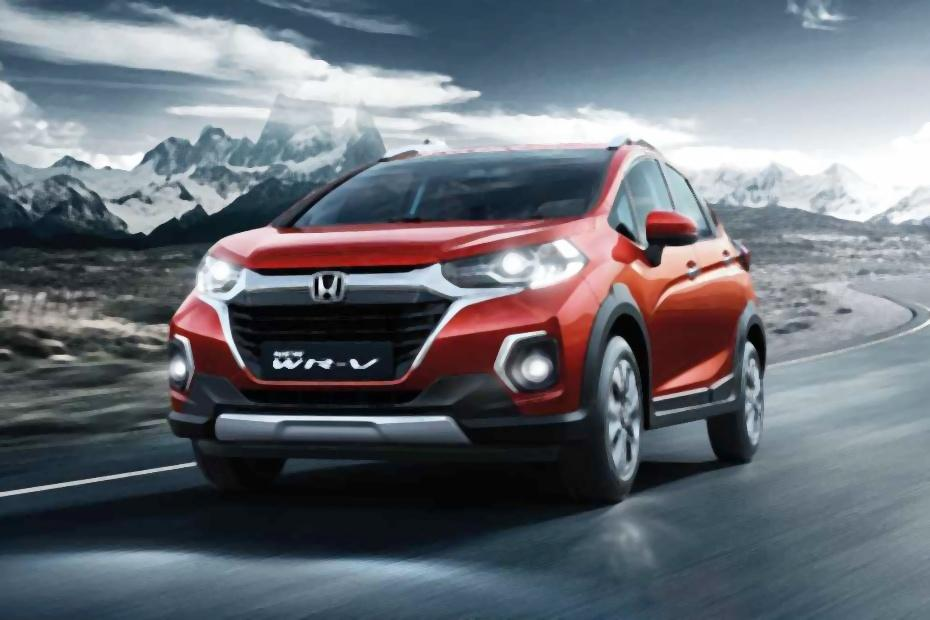Car hood: (209, 213, 606, 282)
Fender - -F-L-: (565, 199, 661, 383)
Front bumper: (169, 286, 609, 447)
Headlight - -L-: (439, 236, 594, 288)
Headlight - -R-: (181, 244, 244, 299)
Passenger-s door - -F-L-: (592, 136, 708, 429)
Passenger-s door - -R-L-: (655, 147, 752, 417)
Side bumper - -L-: (647, 365, 753, 449)
Side mirror - -L-: (640, 207, 694, 265)
